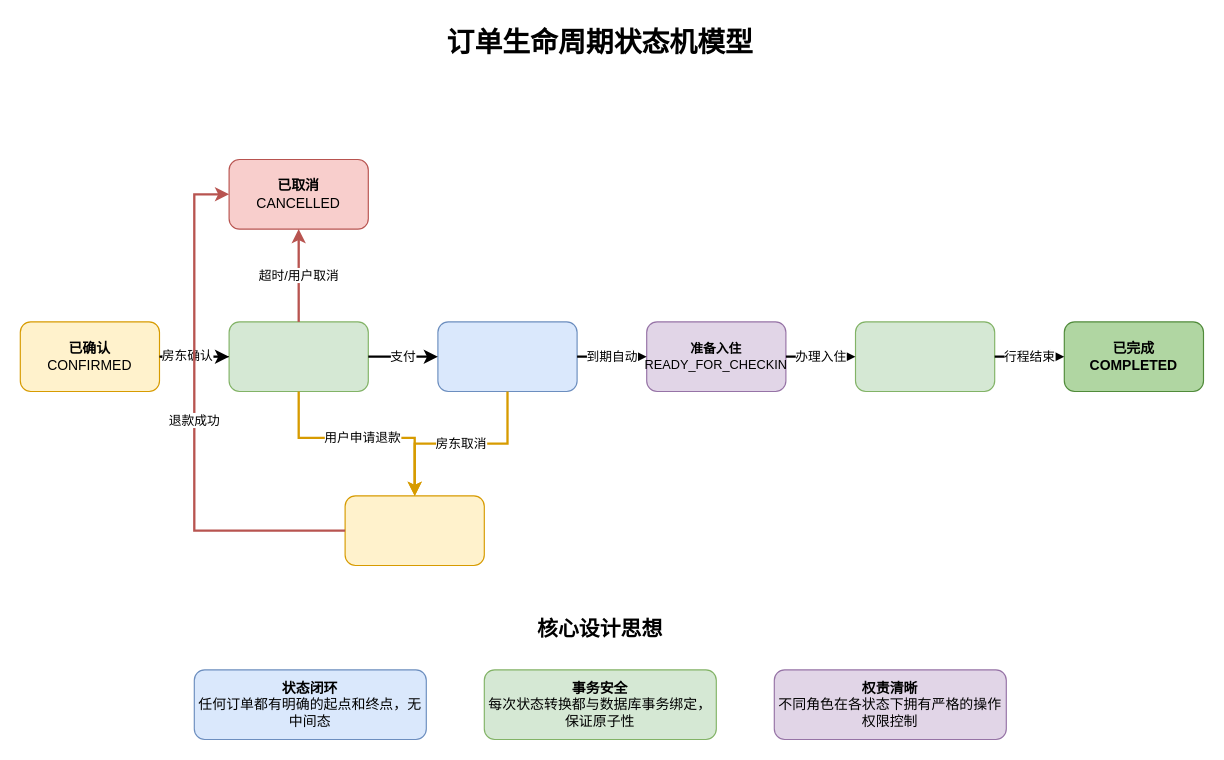
Image size: 1224x760. Some labels were removed from this diagram. The shapes that lost their labels are listed below. From the top down, each one's centre as x and y in pixels, then its label:
At [298,356]: "未支付 UNPAID".
At [507,356]: "已支付 PAID".
At [924,356]: "已入住 CHECKED_IN".
At [414,530]: "退款中 REFUNDING".
